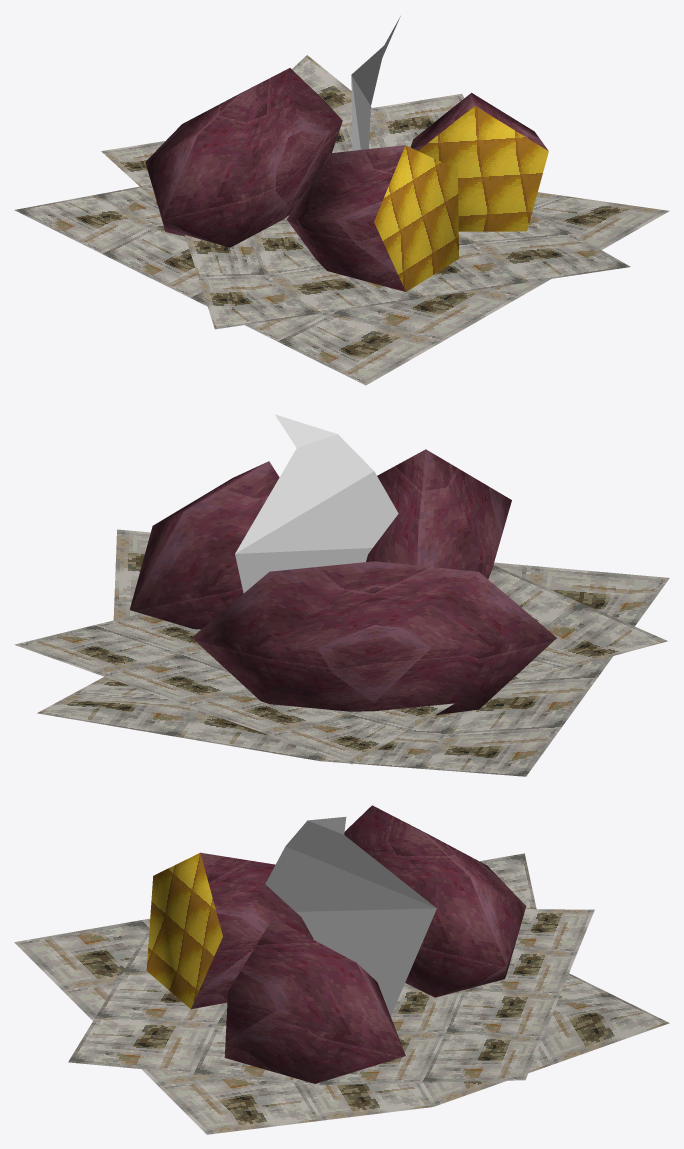
File: 3627sep_ykiimo00.gltf
The picture shows the model from 3 angles, top to bottom: view 1: azimuth 30°, elevation 25°; view 2: azimuth 150°, elevation 25°; view 3: azimuth 270°, elevation 25°; orthographic projection. The views are drawn at different scales.
Parts seen in each view (by area): view 1: 3627sep_ykiimo00; view 2: 3627sep_ykiimo00; view 3: 3627sep_ykiimo00.
Part boxes in pixels (left/top/right/bottom): 3627sep_ykiimo00: left=14, top=16, right=669, bottom=385; 3627sep_ykiimo00: left=14, top=414, right=669, bottom=776; 3627sep_ykiimo00: left=14, top=805, right=669, bottom=1134.
Bounding box in the file's own units: 0.7871 × 0.3289 × 0.825.
Materials: 4 (4 with a texture image).
